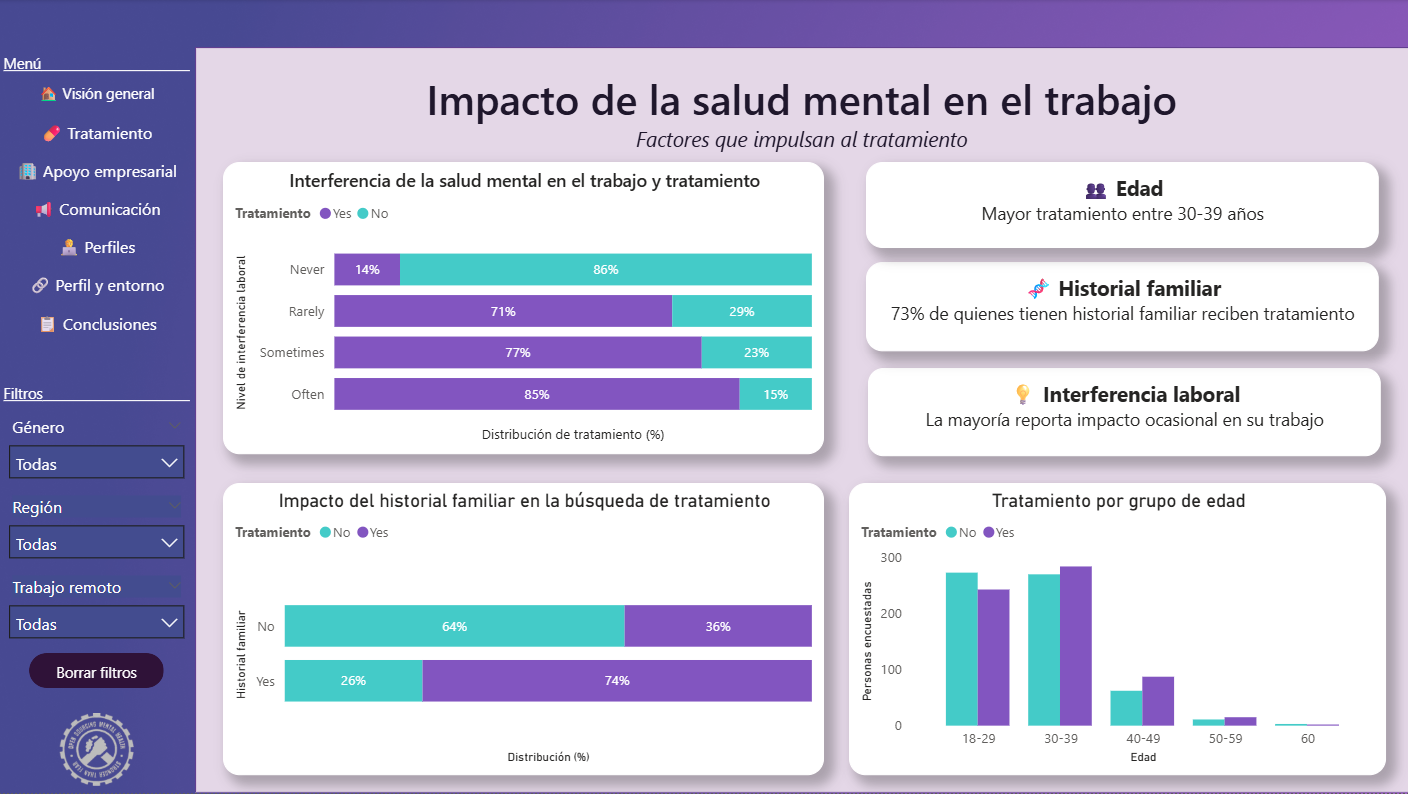

This screenshot's page, from the dashboard's own definition file:
{"tool":"powerbi","page":{"name":"Interferencia vs Tratamiento","canvas":[1280,720],"ordinal":4},"visuals":[{"type":"shape","box":[178.2,43.5,1101.8,676.5],"z":0},{"type":"slicer","fields":{"Values":["osmi_mental_health_clean.Gender"]},"box":[0,306.5,178.6,66.2],"z":1000},{"type":"slicer","fields":{"Values":["osmi_mental_health_clean.region"]},"box":[0,373,178.6,66],"z":2000},{"type":"slicer","fields":{"Values":["osmi_mental_health_clean.remote_work"]},"box":[0,448.6,178.6,66.2],"z":3000},{"type":"slicer","fields":{"Values":["osmi_mental_health_clean.perfil_empleado"]},"box":[0,515.1,178.6,66],"z":4000},{"type":"image","box":[0,647.5,178.6,66.2],"z":5000},{"type":"textbox","box":[0,44.4,178.6,33.6],"z":6000},{"type":"textbox","box":[0,272.9,178.6,33.6],"z":7000},{"type":"actionButton","box":[28.1,593,122.4,31.7],"z":8000},{"type":"actionButton","box":[0,68.9,178.6,32.6],"z":9000},{"type":"hundredPercentStackedBarChart","title":"Impacto del historial familiar en la búsqueda de tratamiento","fields":{"Category":["osmi_mental_health_clean.family_history"],"Y":["CountNonNull(osmi_mental_health_clean.family_history)"],"Series":["osmi_mental_health_clean.treatment"]},"box":[203.7,439,545,265],"z":10000},{"type":"clusteredColumnChart","title":"Tratamiento por grupo de edad","fields":{"Series":["osmi_mental_health_clean.treatment"],"Y":["CountNonNull(osmi_mental_health_clean.treatment)"],"Category":["osmi_mental_health_clean.grupo_edad"]},"box":[771.9,439,487,265],"z":11000},{"type":"textbox","box":[248.5,59.6,960.8,86.1],"z":12000},{"type":"textbox","box":[788.5,334.6,465.5,79.5],"z":13000},{"type":"textbox","box":[786.8,238.5,465.5,81.2],"z":14000},{"type":"textbox","box":[786.8,147.4,465.5,77.9],"z":15000},{"type":"hundredPercentStackedBarChart","title":"Interferencia de la salud mental en el trabajo y tratamiento","fields":{"Category":["osmi_mental_health_clean.work_interfere"],"Y":["CountNonNull(osmi_mental_health_clean.work_interfere)"],"Series":["osmi_mental_health_clean.treatment"]},"box":[203.7,147.4,545,265],"z":16000}]}

Visuals, with their boxes on the page's 1280x720 design canvas (x1, y1, x2, y2). These are canvas units, not pixel positions in the 1408x794 screenshot, which may show the page scaled, cropped or inside an application window:
shape: <bbox>178, 44, 1280, 720</bbox>
slicer - osmi_mental_health_clean.Gender: <bbox>0, 306, 179, 373</bbox>
slicer - osmi_mental_health_clean.region: <bbox>0, 373, 179, 439</bbox>
slicer - osmi_mental_health_clean.remote_work: <bbox>0, 449, 179, 515</bbox>
slicer - osmi_mental_health_clean.perfil_empleado: <bbox>0, 515, 179, 581</bbox>
image: <bbox>0, 648, 179, 714</bbox>
textbox: <bbox>0, 44, 179, 78</bbox>
textbox: <bbox>0, 273, 179, 306</bbox>
actionButton: <bbox>28, 593, 150, 625</bbox>
actionButton: <bbox>0, 69, 179, 102</bbox>
"Impacto del historial familiar en la búsqueda de tratamiento" hundredPercentStackedBarChart: <bbox>204, 439, 749, 704</bbox>
"Tratamiento por grupo de edad" clusteredColumnChart: <bbox>772, 439, 1259, 704</bbox>
textbox: <bbox>248, 60, 1209, 146</bbox>
textbox: <bbox>788, 335, 1254, 414</bbox>
textbox: <bbox>787, 238, 1252, 320</bbox>
textbox: <bbox>787, 147, 1252, 225</bbox>
"Interferencia de la salud mental en el trabajo y tratamiento" hundredPercentStackedBarChart: <bbox>204, 147, 749, 412</bbox>
